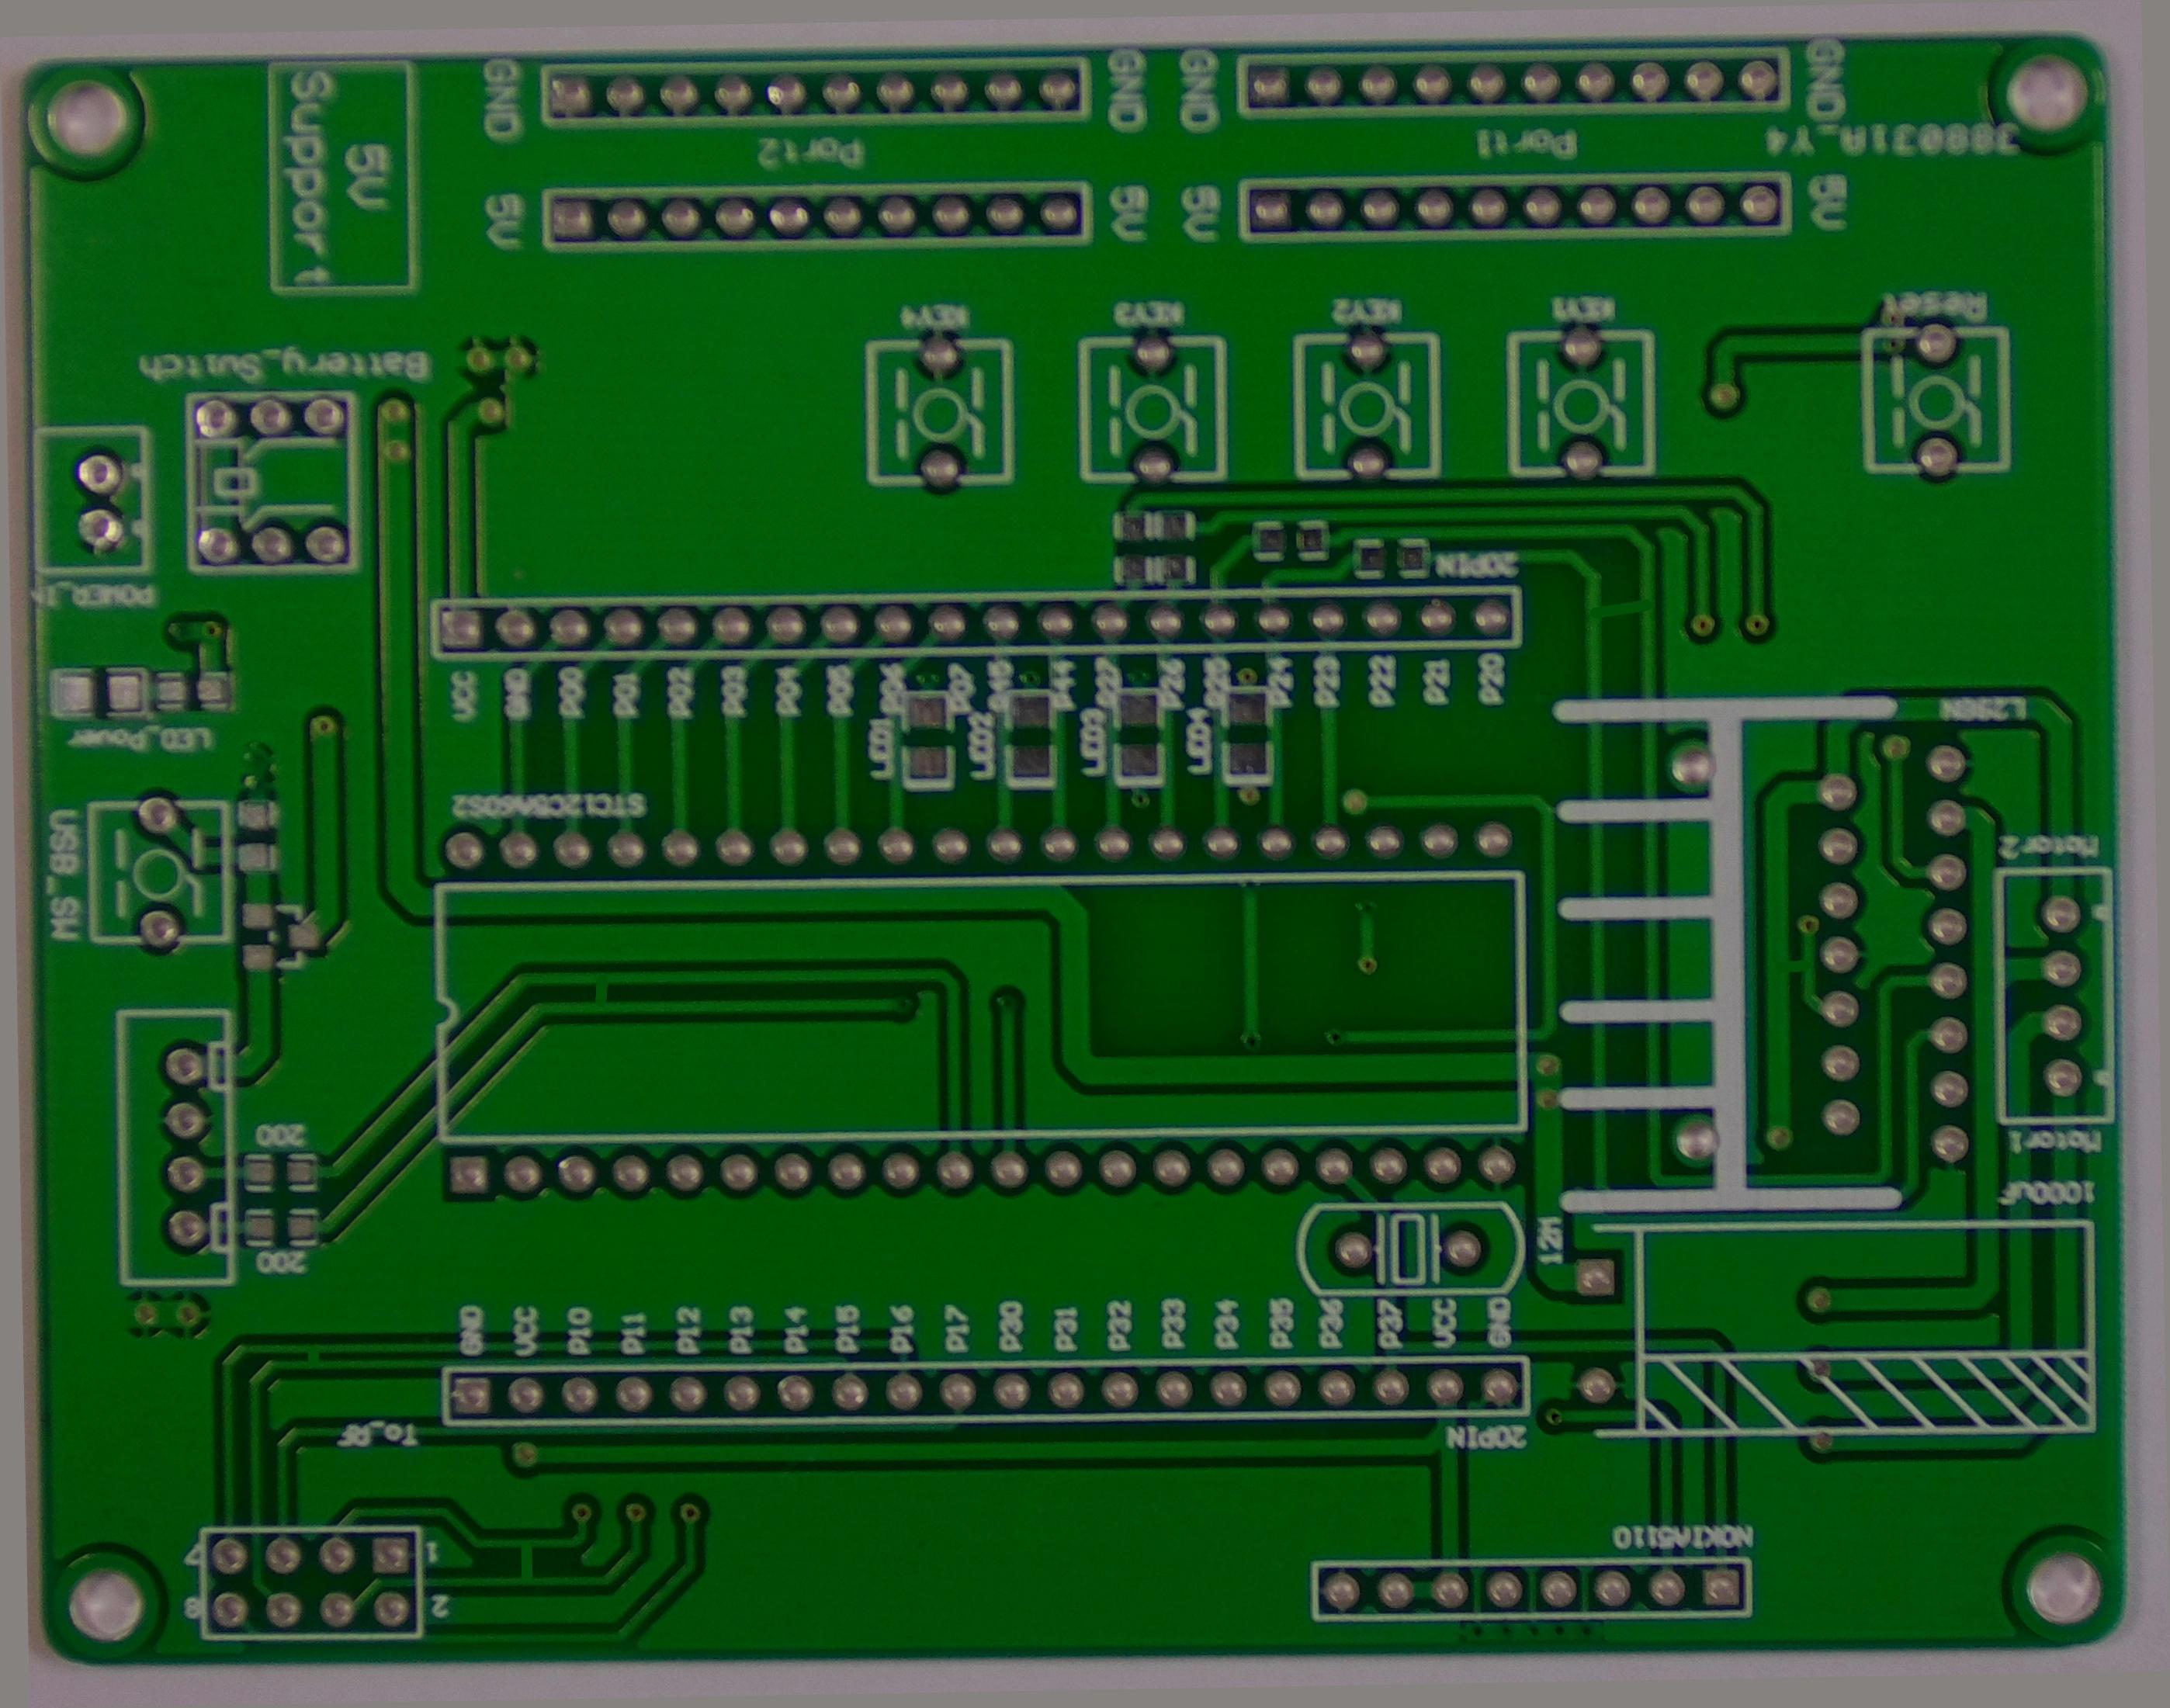short: (1569, 572, 1670, 646), (491, 1527, 555, 1592), (567, 961, 631, 1023), (1758, 935, 1818, 995), (285, 1335, 340, 1377)
